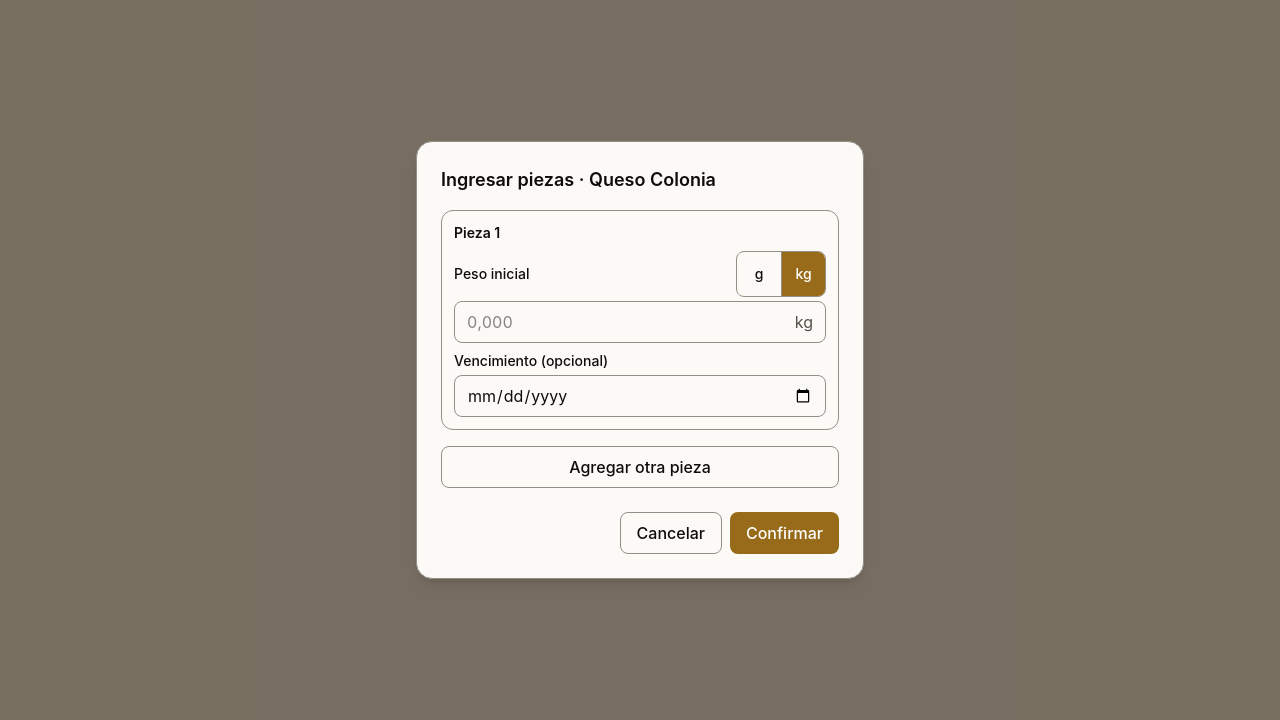
Test: ModalIngresarPiezas › vencimiento anterior a hoy: error inline, no confirma
Type "2" into the field labelled "Peso inicial" at (629, 322), box x1=467 y1=310 x2=791 y2=334
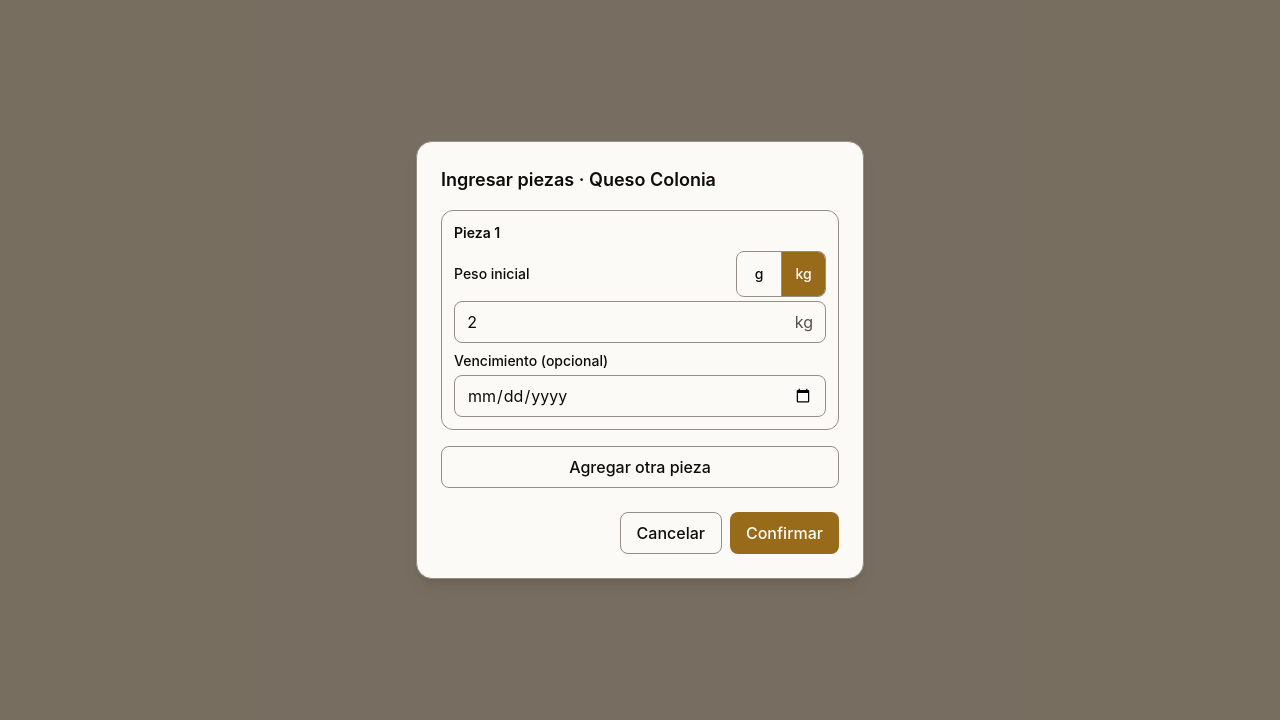
Type "2020-01-01" into the date field labelled "Vencimiento (opcional)" at (640, 396), box x1=454 y1=375 x2=826 y2=417
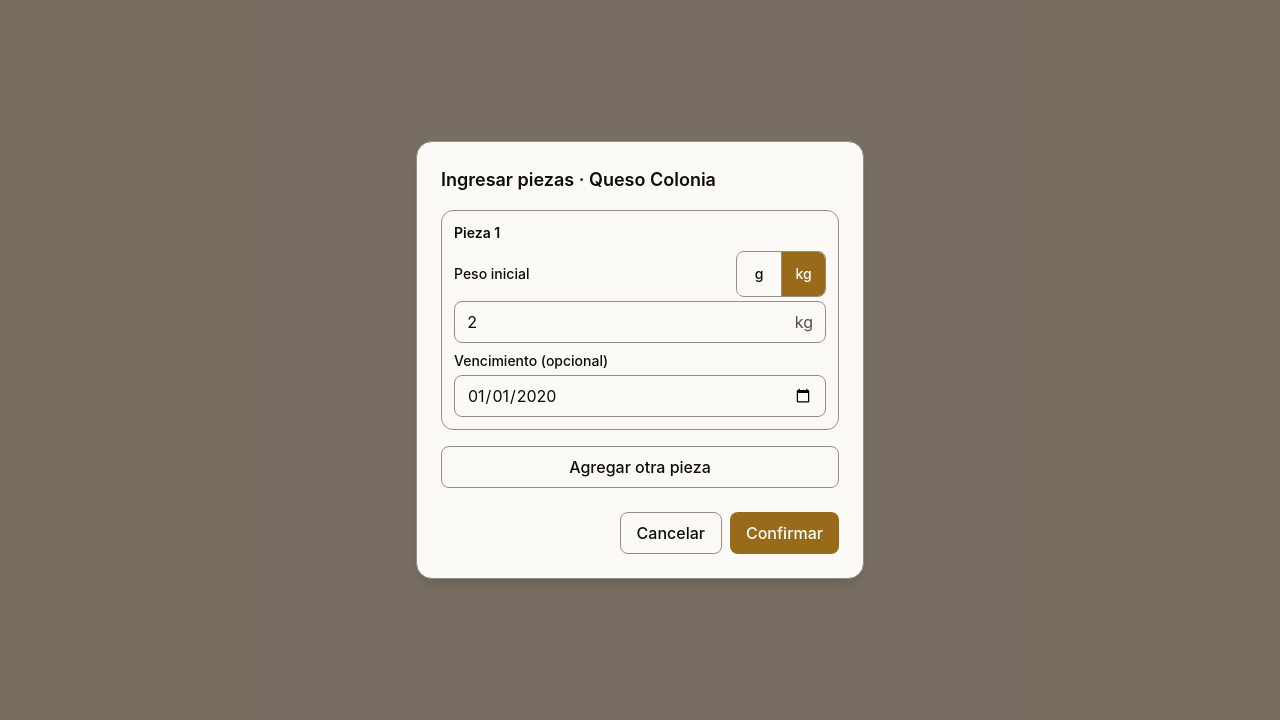
Click the button "Confirmar" at (784, 533), box x1=730 y1=512 x2=839 y2=554
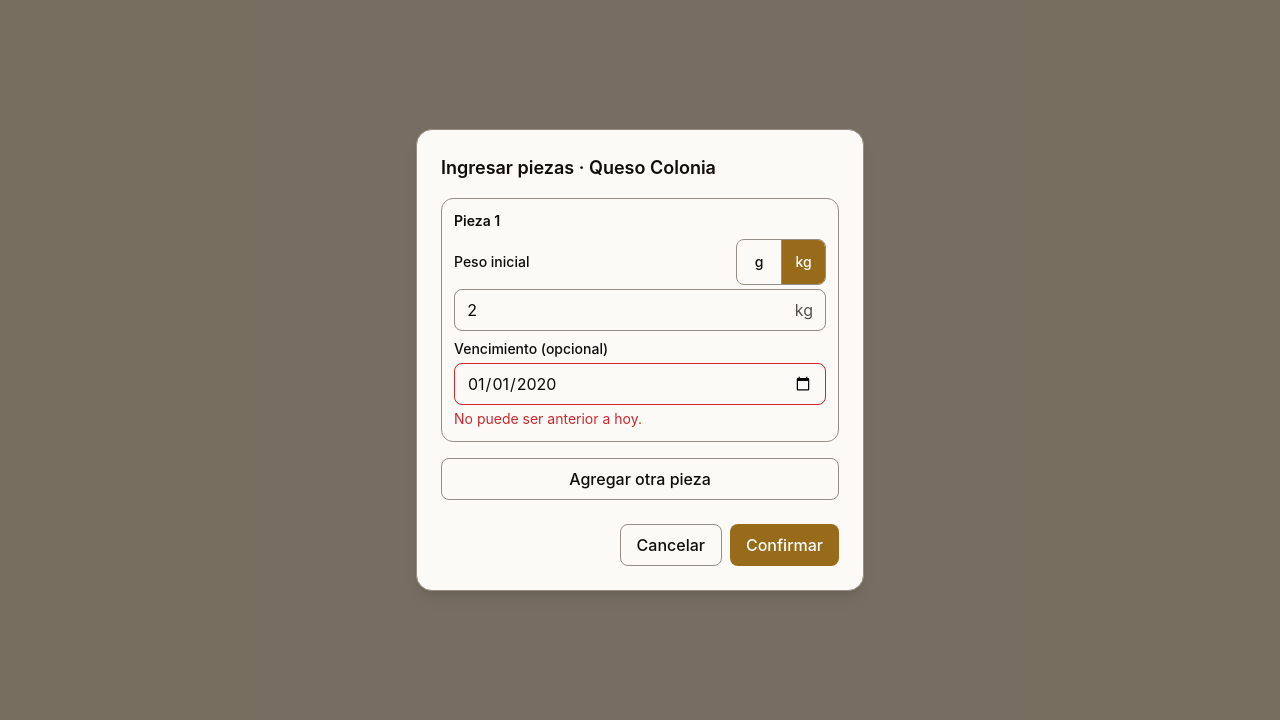
Result: the text "No puede ser anterior a hoy." is shown at x1=454 y1=410 x2=642 y2=427
